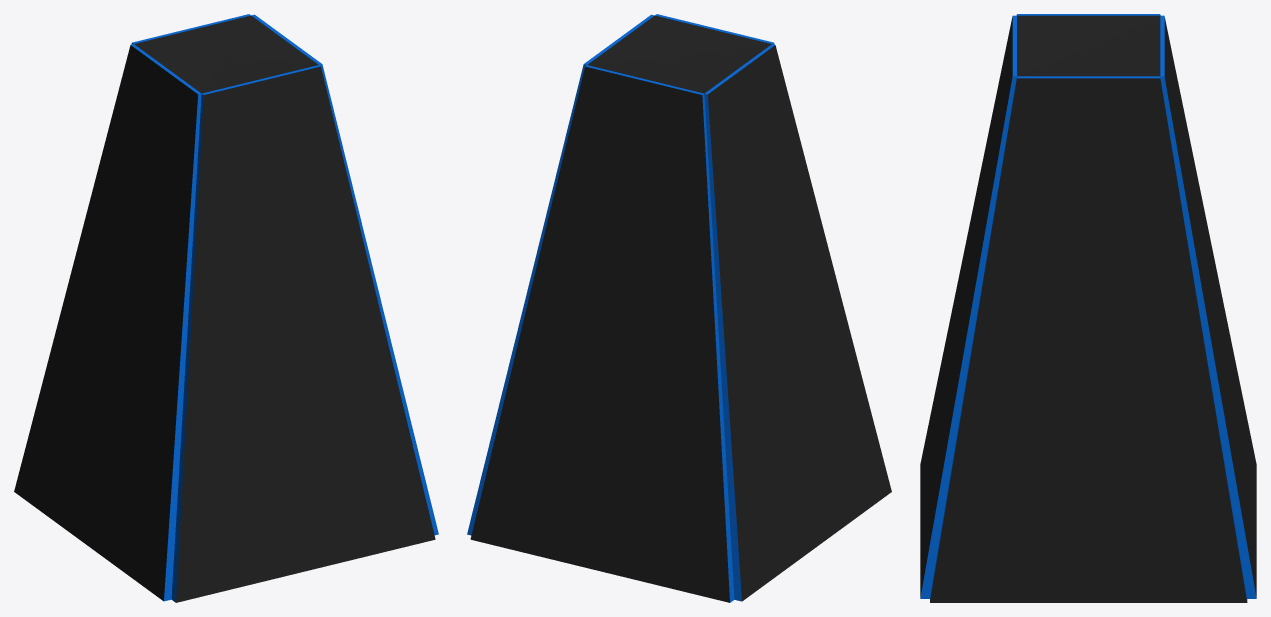
File: Blue Slanted.fbx
3 views of the same model, side by side, from view 1: azimuth 30°, elevation 25°; view 2: azimuth 150°, elevation 25°; view 3: azimuth 270°, elevation 25° (orthographic). The views are drawn at different scales.
Parts seen in each view (by area): view 1: Cube.001; view 2: Cube.001; view 3: Cube.001.
Part boxes in pixels (left/top/right/bottom): Cube.001: left=14, top=14, right=438, bottom=602; Cube.001: left=467, top=14, right=891, bottom=602; Cube.001: left=920, top=14, right=1256, bottom=602.
Size of the model in its own units: 393 by 627 by 393.
